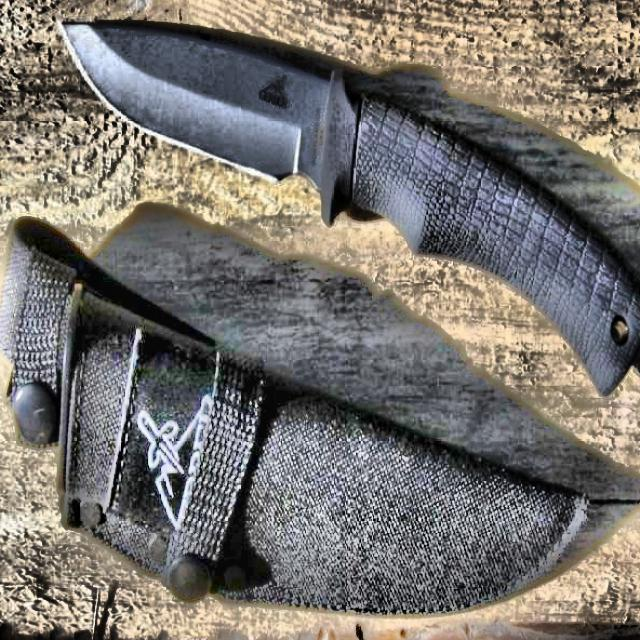knife: (59, 17, 640, 396)
